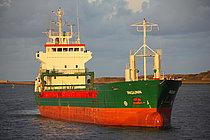Ship: (29, 1, 187, 132)
